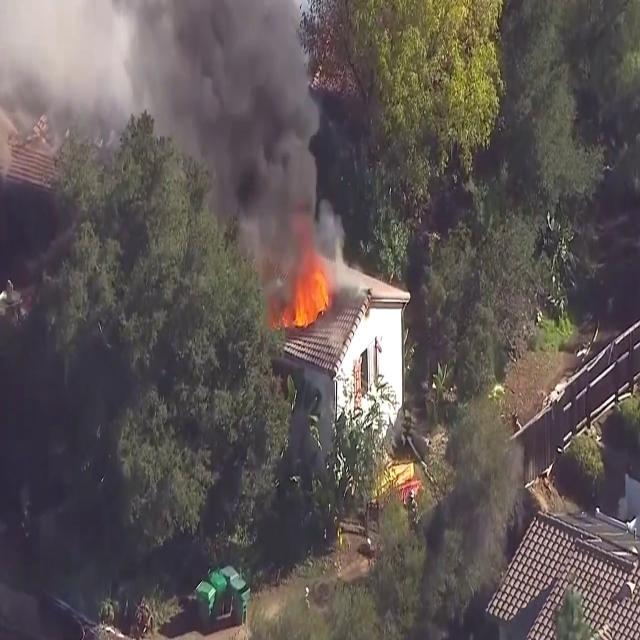Fire: (286, 256, 336, 330)
Smoke: (158, 0, 344, 295)
